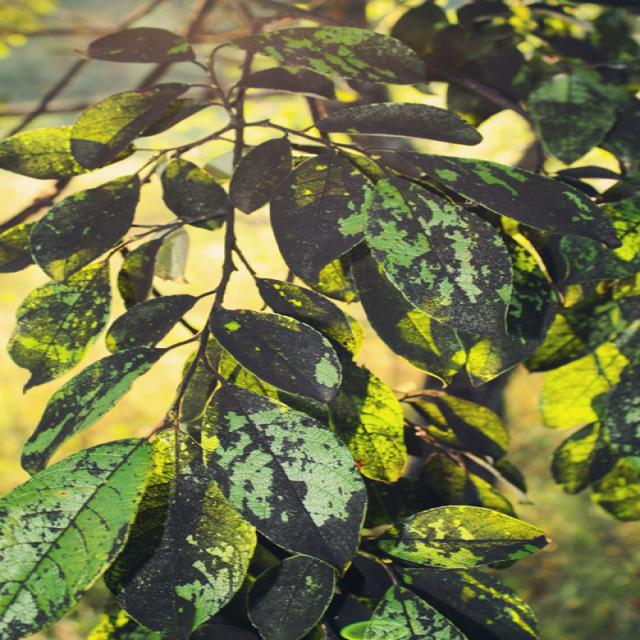Sooty Mold: (2, 11, 626, 637)
